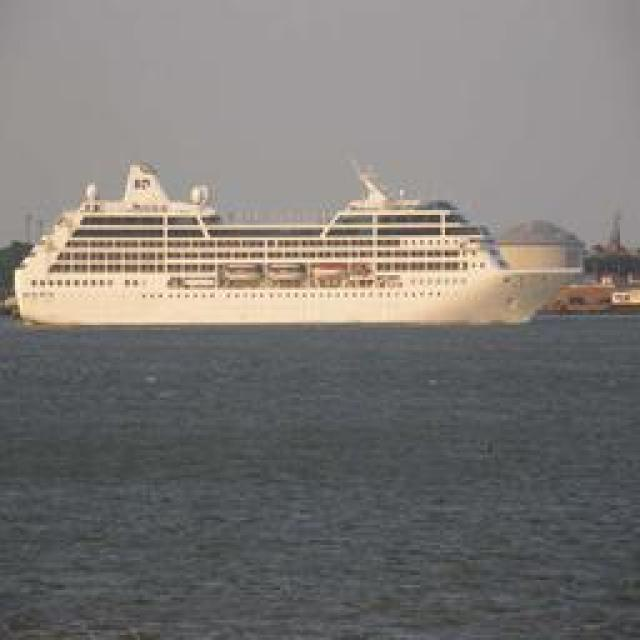CIV_Ship: (6, 158, 576, 326)
